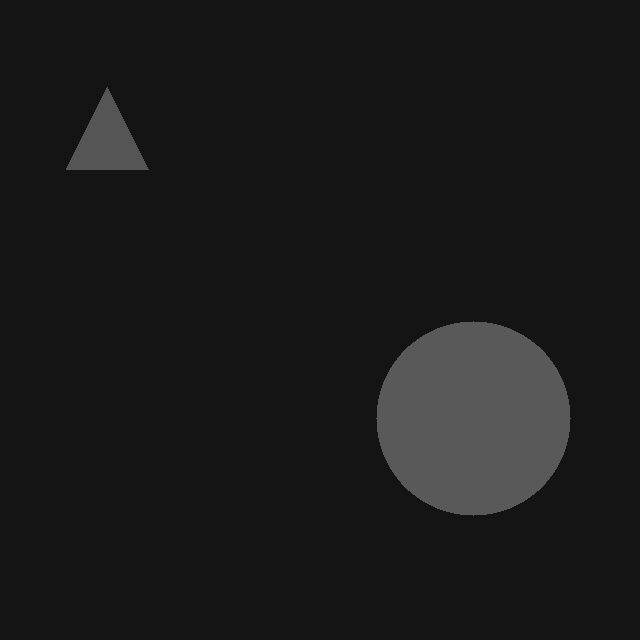circle: (376, 321, 570, 515)
triangle: (66, 87, 148, 169)
